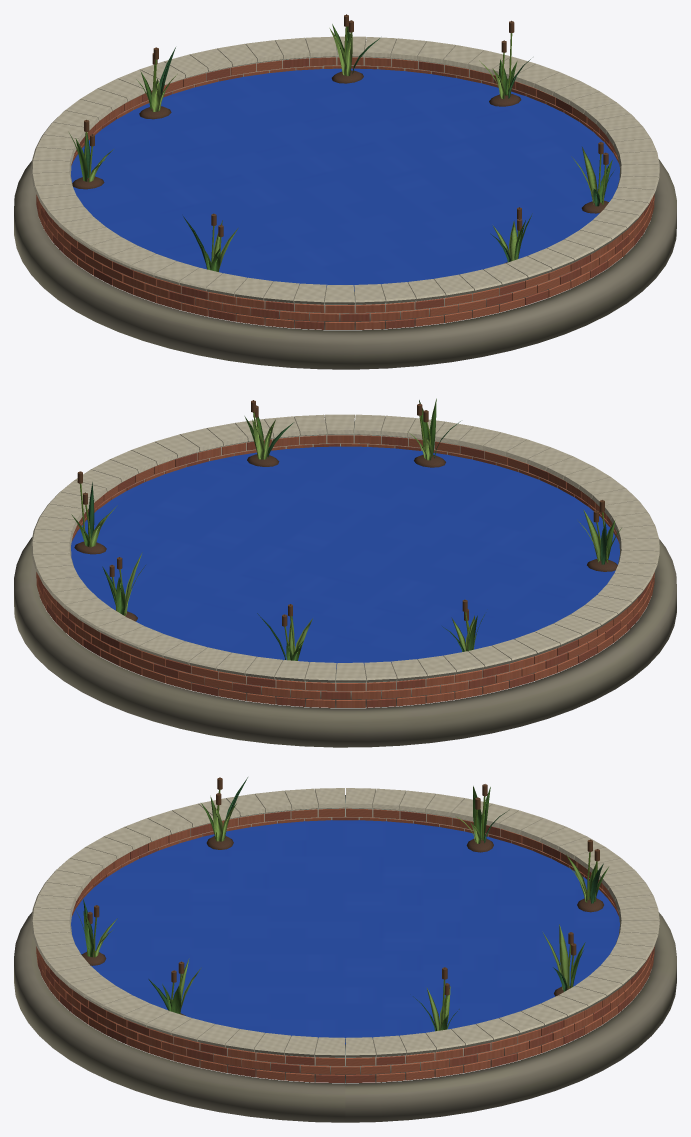
File: duckpond.glb
The picture shows the model from 3 angles, top to bottom: view 1: azimuth 30°, elevation 25°; view 2: azimuth 150°, elevation 25°; view 3: azimuth 270°, elevation 25°; orthographic projection.
Visible parts, largest first — view 1: DuckpondBody; view 2: DuckpondBody; view 3: DuckpondBody.
Boxes of the visible parts, x1,y1,x2,y2 form: DuckpondBody: (14,14,676,369); DuckpondBody: (14,398,676,747); DuckpondBody: (14,777,676,1122).
Size of the model in its own units: 11 by 2.19 by 10.96.
Materials: 1 (1 with a texture image).
